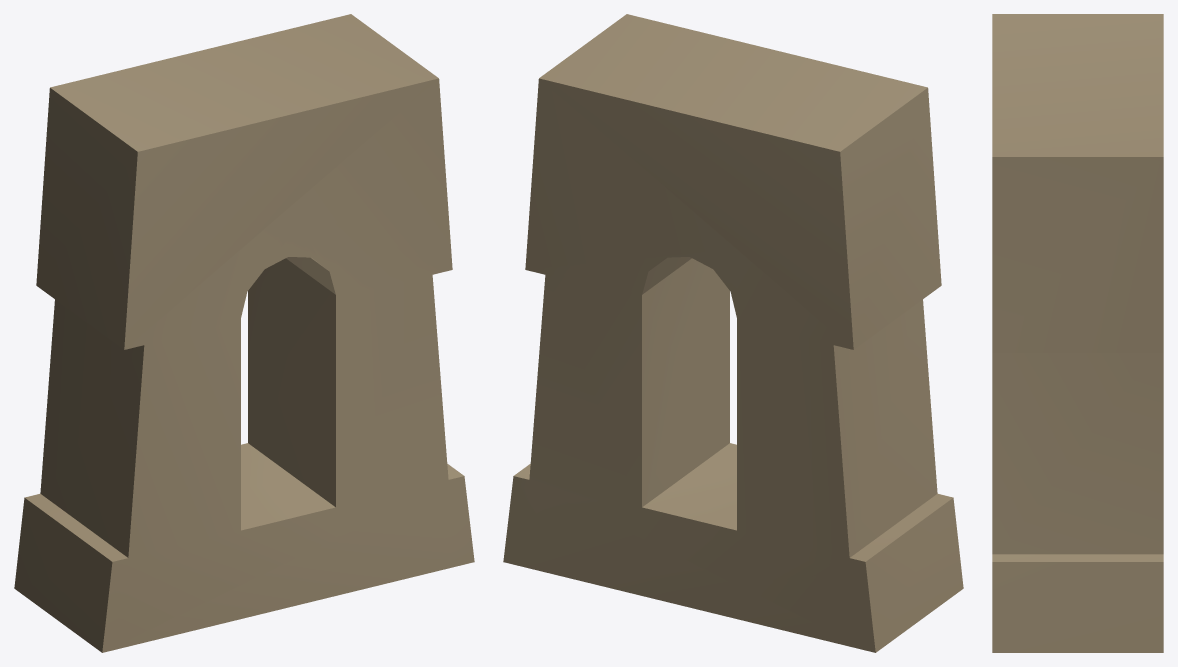
Rendered from ORIGEN_MASTER_LOD2.glb.
3 views of the same model, side by side, from view 1: azimuth 30°, elevation 25°; view 2: azimuth 150°, elevation 25°; view 3: azimuth 270°, elevation 25° (orthographic). The views are drawn at different scales.
Visible parts, largest first — view 1: ORIGEN_SYMBOL_Mesh; view 2: ORIGEN_SYMBOL_Mesh; view 3: ORIGEN_SYMBOL_Mesh.
Part boxes in pixels (x1=…): ORIGEN_SYMBOL_Mesh: x1=14, y1=14, x2=474, y2=652; ORIGEN_SYMBOL_Mesh: x1=503, y1=14, x2=963, y2=652; ORIGEN_SYMBOL_Mesh: x1=992, y1=14, x2=1163, y2=652.
Size of the model in its own units: 2.2 by 2.78 by 0.9.
